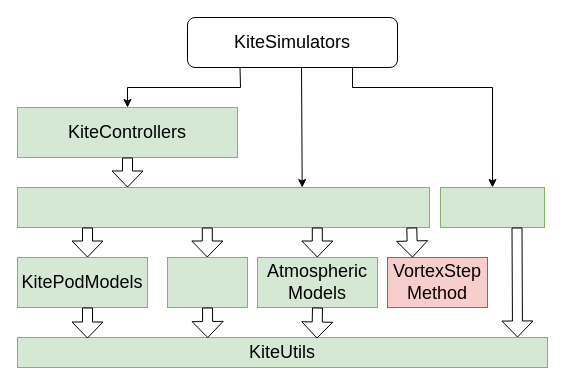
The diagram is 565 pixels wide and 385 high, and some of its shapes have lost their labels. Each missing label, with the box of its shape:
KiteViewers: (440, 186, 544, 228)
SymbolicAWEModels: (16, 186, 430, 228)
Winch Models: (166, 256, 248, 308)
